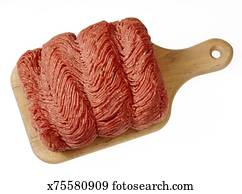ground_beef: (8, 24, 169, 128)
